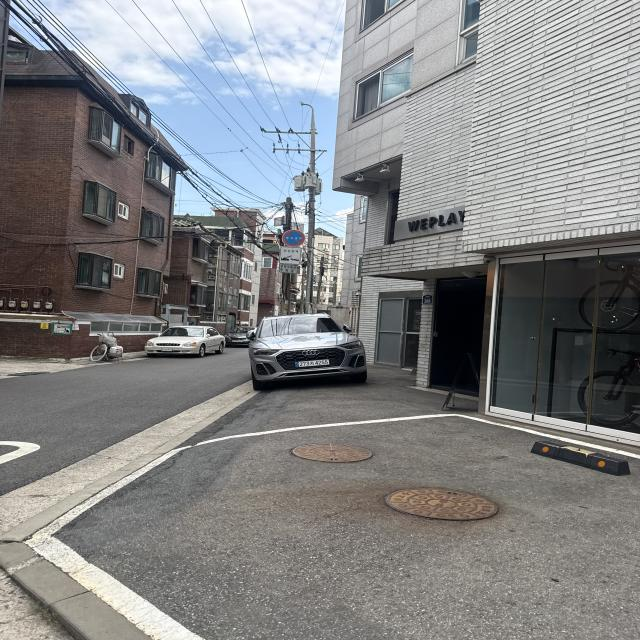car: (226, 300, 379, 400), (131, 313, 240, 370)
